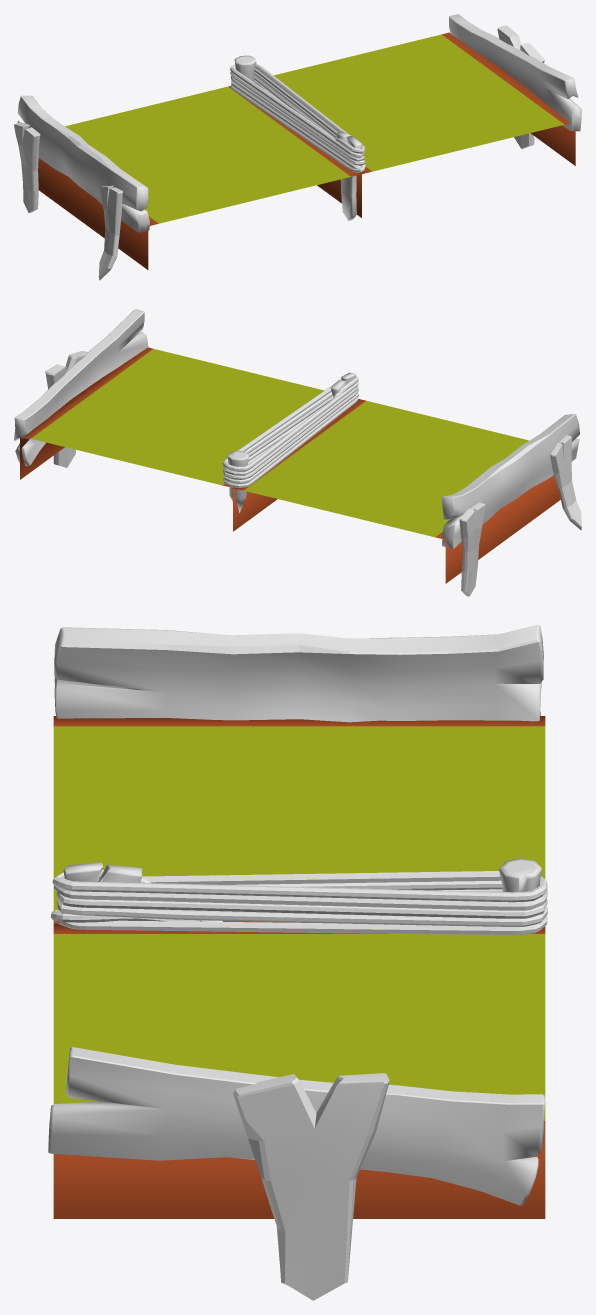
Rendered from Parallel_routes.fbx.
3 renders of one model, top to bottom at view 1: azimuth 30°, elevation 25°; view 2: azimuth 150°, elevation 25°; view 3: azimuth 270°, elevation 25°, orthographic. The views are drawn at different scales.
Visible parts, largest first — view 1: Cylinder.002; view 2: Cylinder.002; view 3: Cylinder.002.
Part boxes in pixels (left/top/right/bottom): Cylinder.002: left=14, top=14, right=581, bottom=280; Cylinder.002: left=14, top=309, right=581, bottom=596; Cylinder.002: left=48, top=625, right=547, bottom=1300.
Size of the model in its own units: 445 by 108 by 203.
